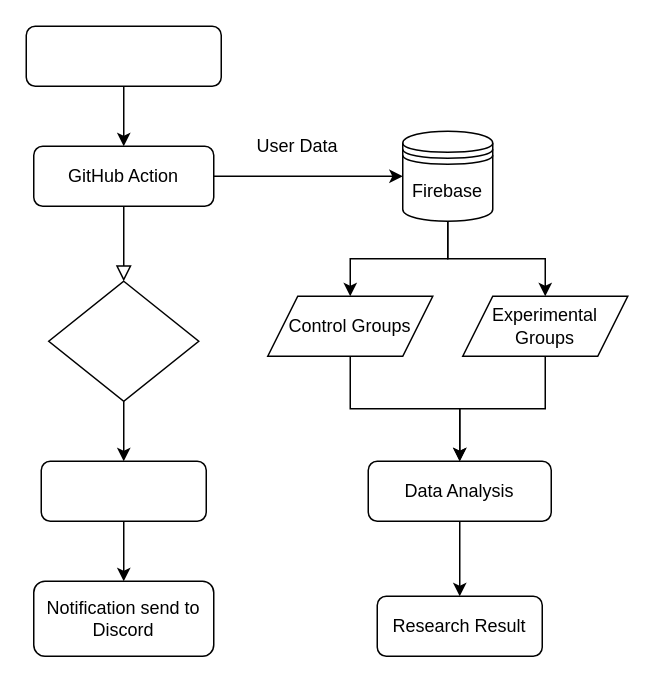
This 654x683 diagram has some shape labels left out. The box of each missing label's shape, as (x1, y1, x2, y2) in pixels:
Discord API: (40, 460, 206, 521)
GitHub Bot: (25, 25, 221, 86)
WebHook: (47, 280, 199, 401)
